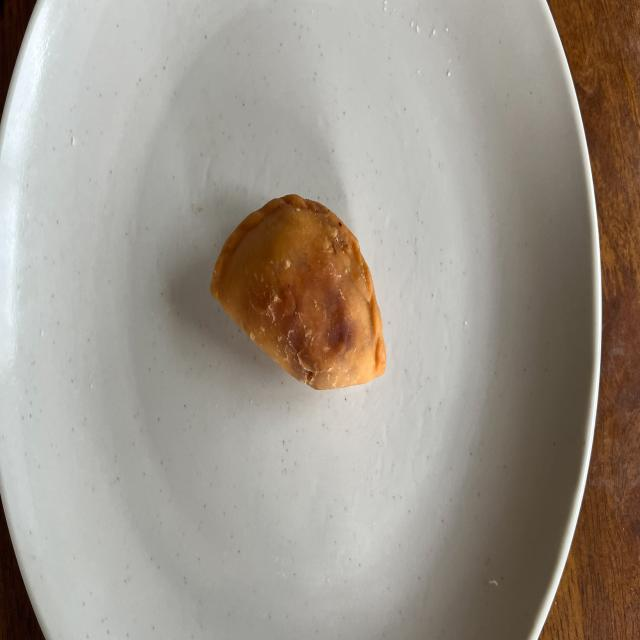karipap: (210, 196, 386, 389)
